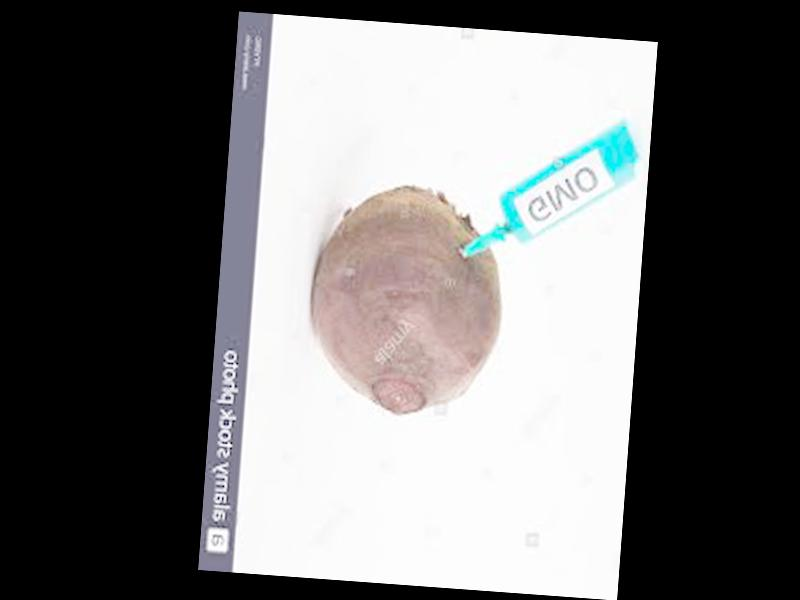Beet: (302, 183, 510, 420)
